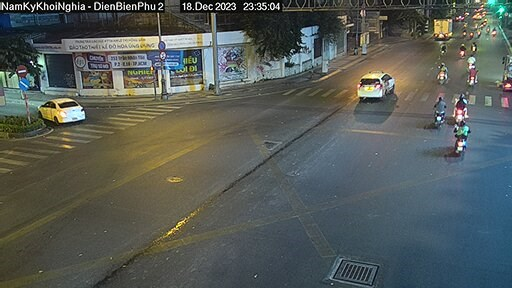car: (346, 67, 402, 105), (30, 96, 87, 130)
motorbike: (451, 115, 469, 160), (452, 89, 469, 125), (432, 93, 447, 126), (433, 60, 449, 87)
truck: (432, 14, 459, 43)
